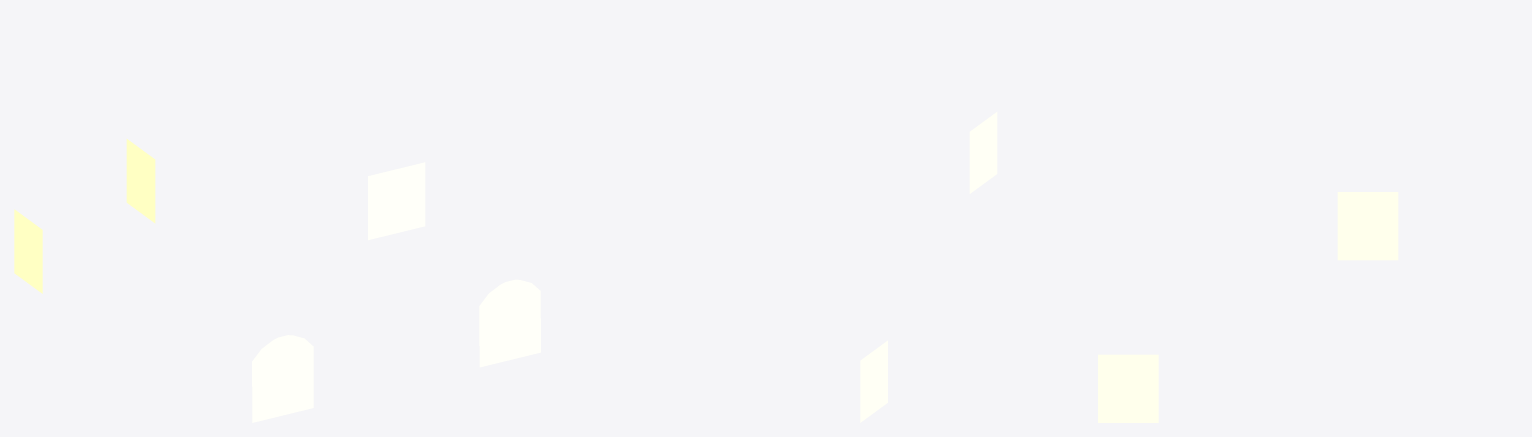
File: bv_kh_c_lit.glb
The picture shows the model from 3 angles, left to right: view 1: azimuth 30°, elevation 25°; view 2: azimuth 150°, elevation 25°; view 3: azimuth 270°, elevation 25°; orthographic projection. The views are drawn at different scales.
Parts seen in each view (by area): view 1: lit; view 2: lit; view 3: lit.
Part boxes in pixels (x1,y1,x2,y2): lit: (14,139,540,422); lit: (860,112,997,422); lit: (1098,192,1398,422).
Size of the model in its own units: 7.03 by 4.29 by 7.51.
